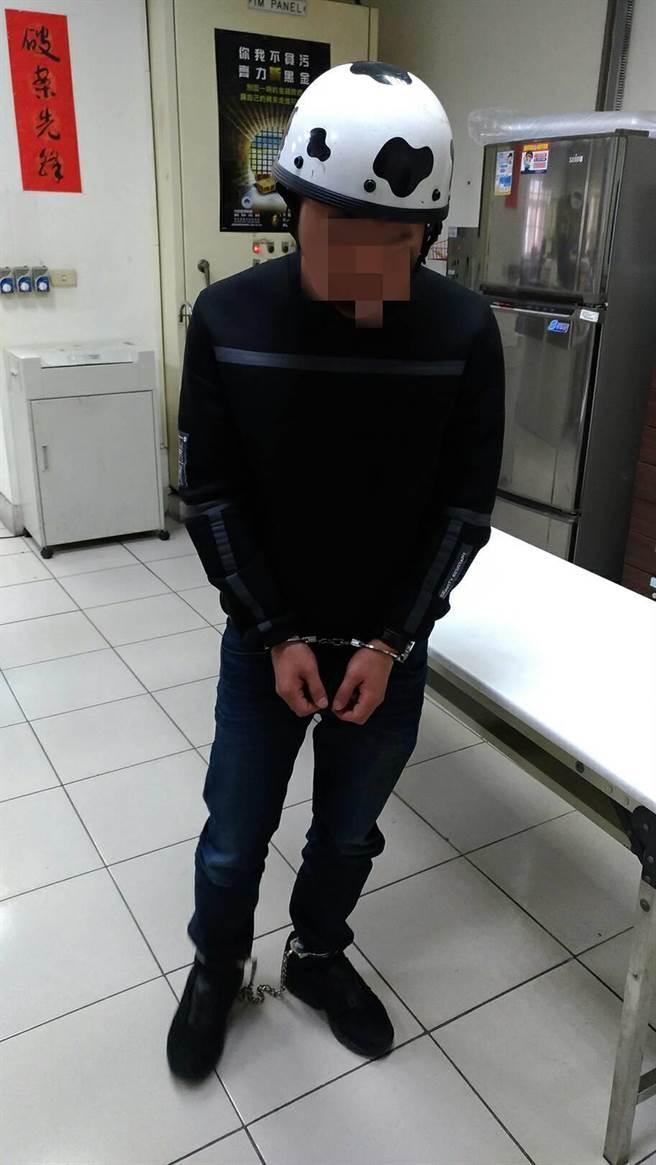helmet: (265, 59, 467, 222)
